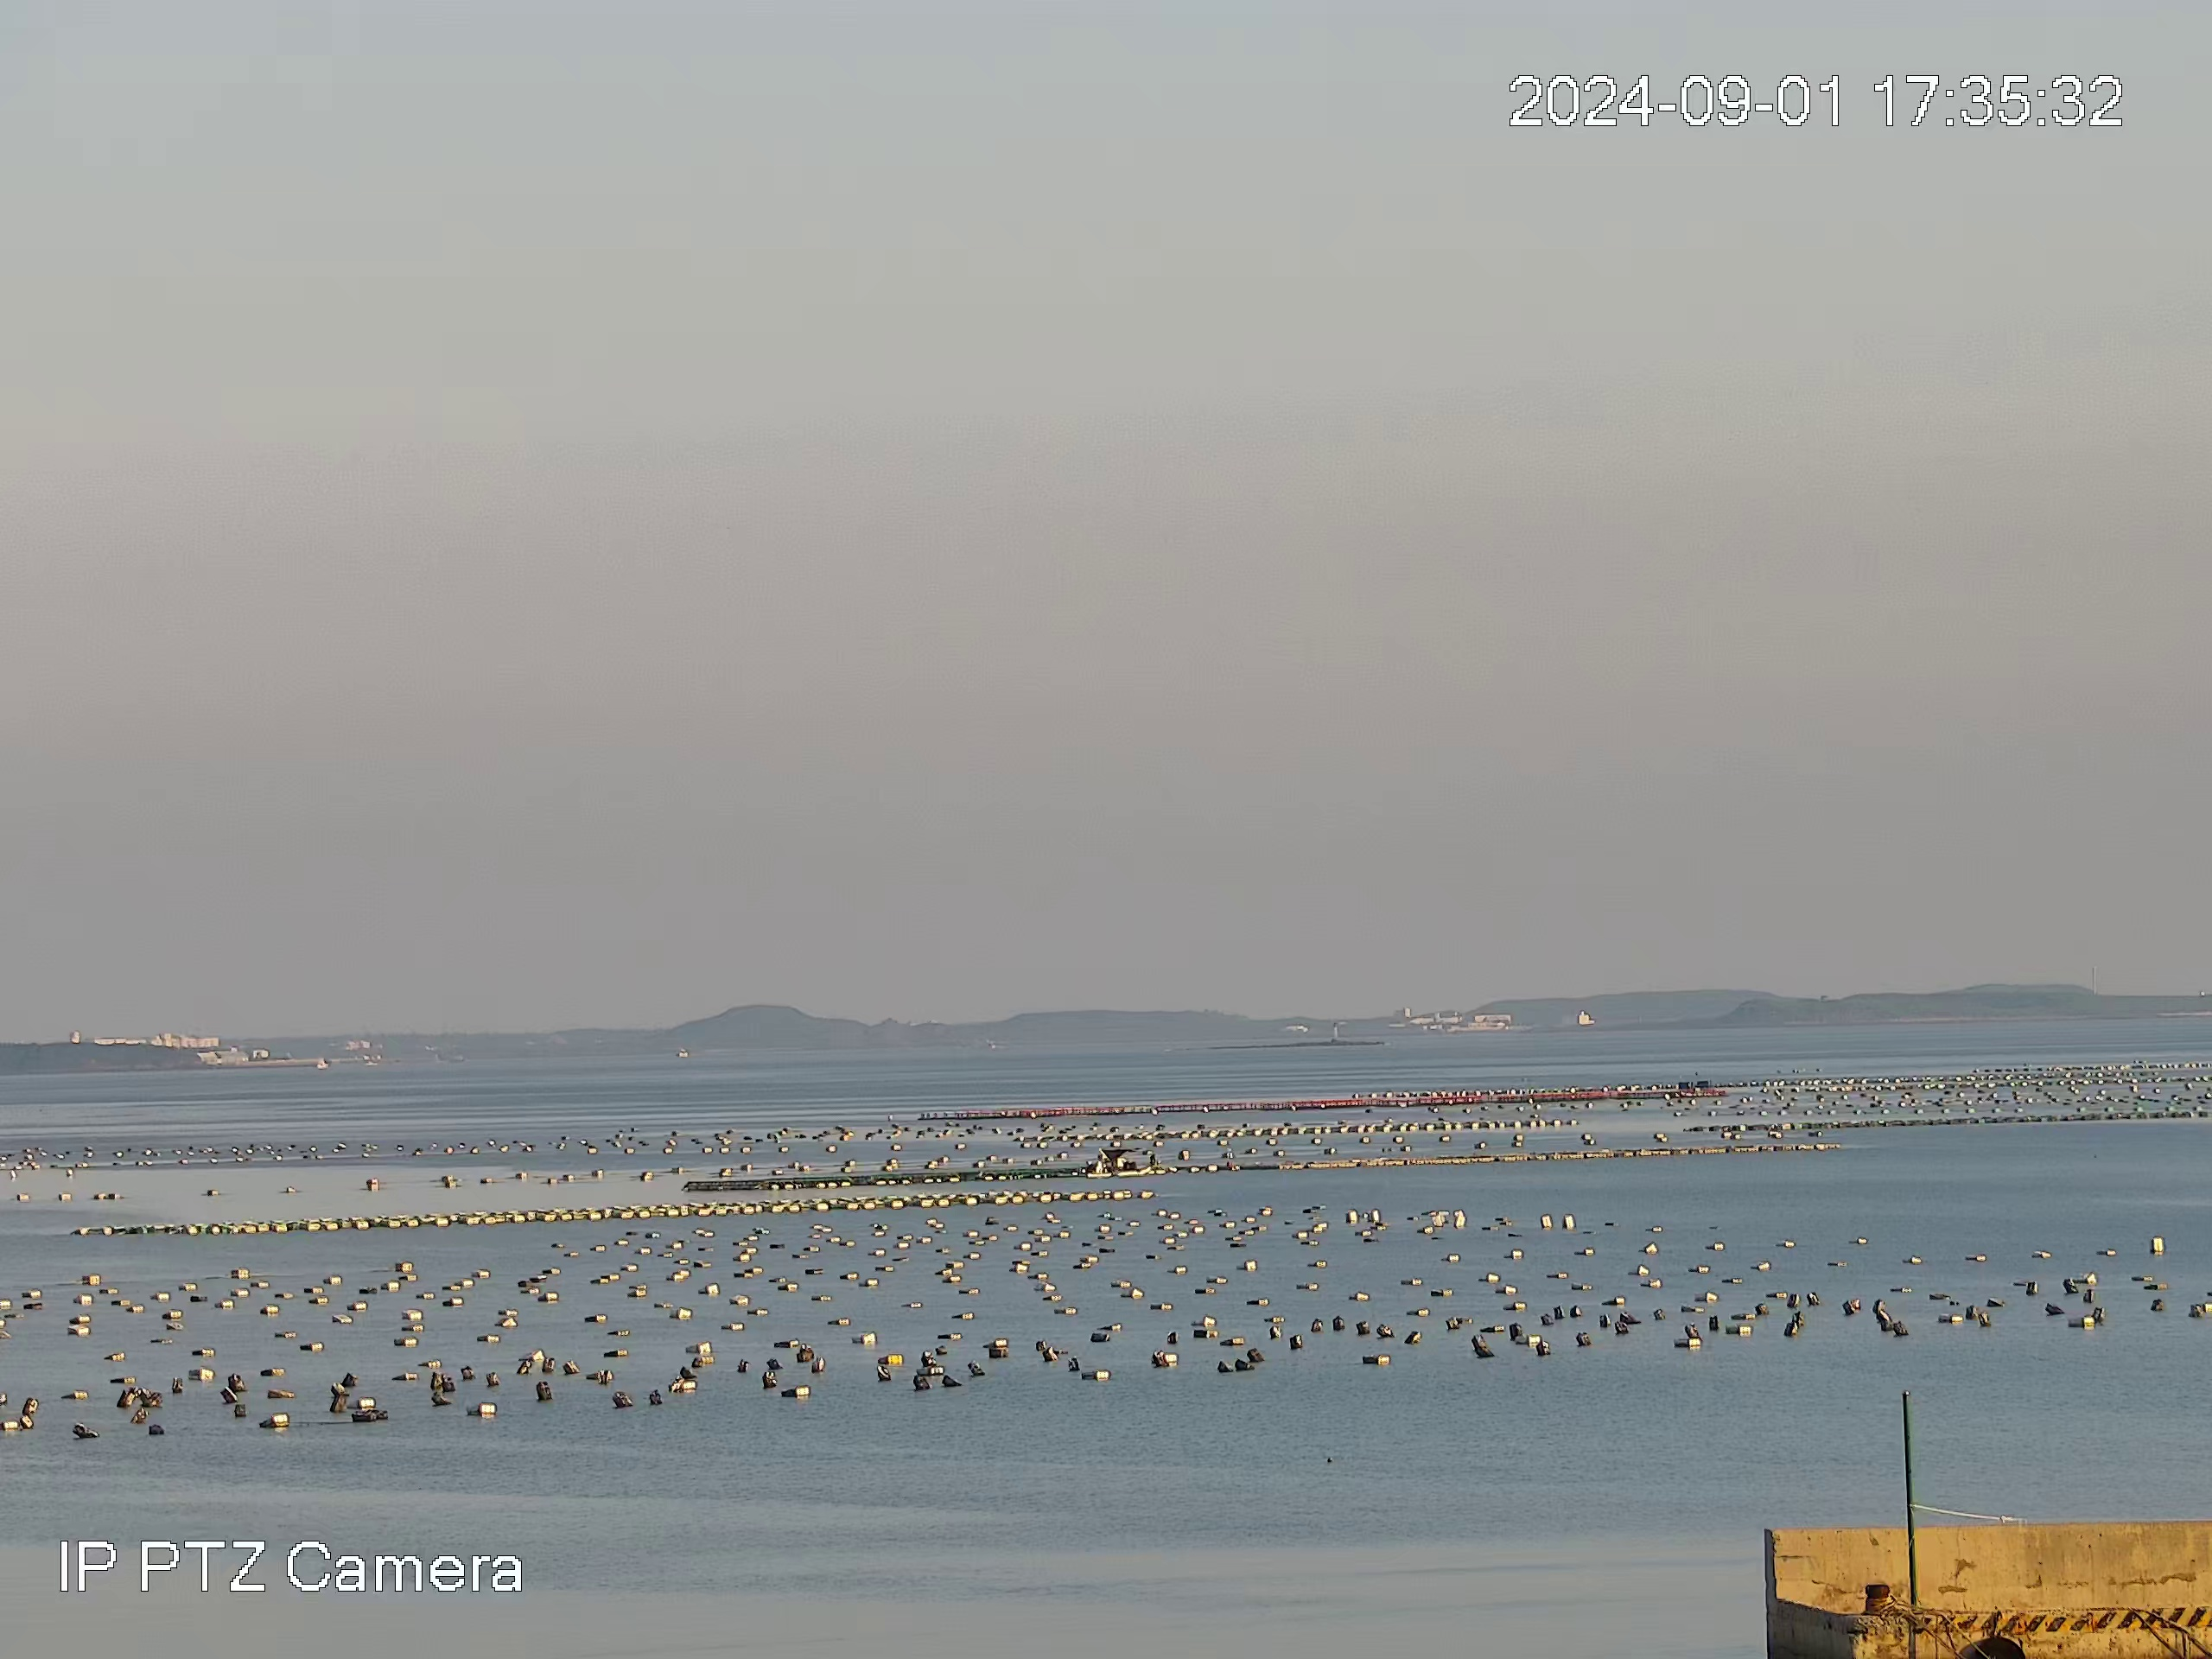boat: (1086, 1147, 1159, 1178)
